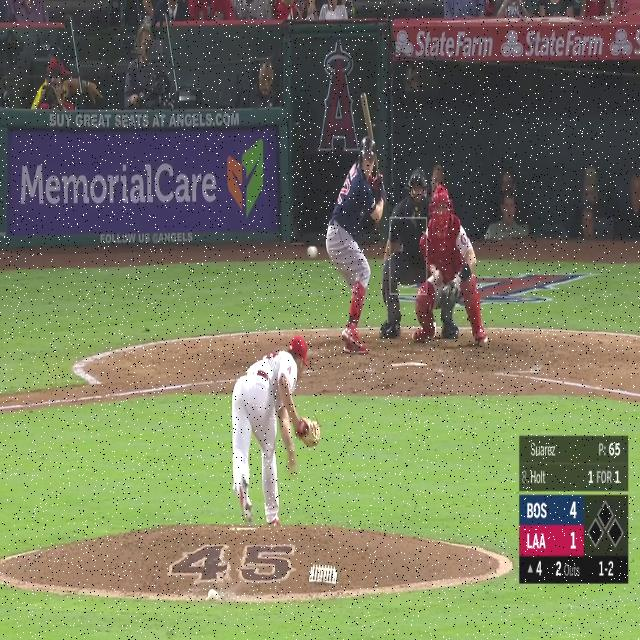baseball: (307, 246, 318, 258)
